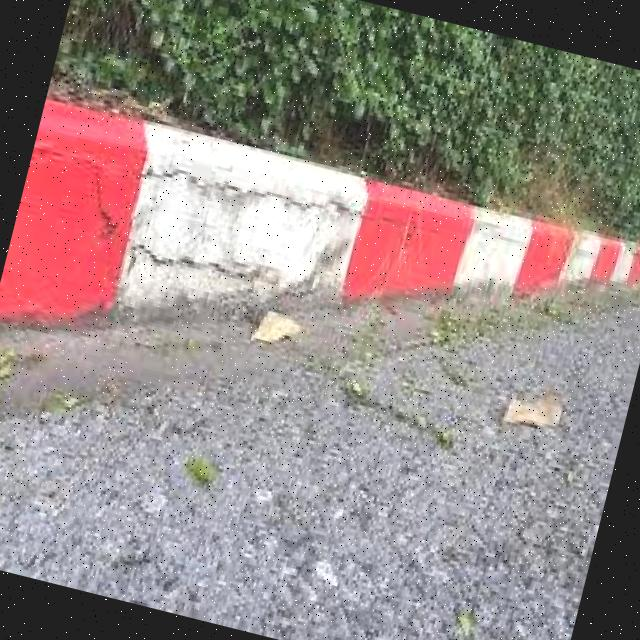curb: (1, 86, 418, 401), (414, 173, 640, 329)
